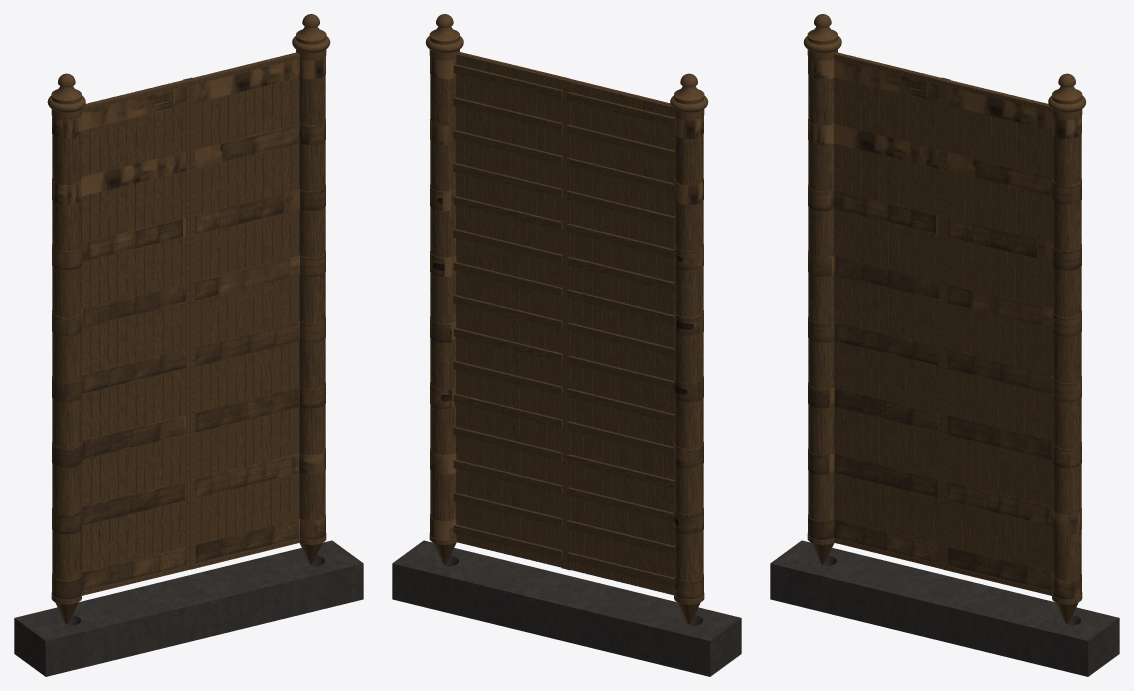
The model's file is gate.glb.
3 renders of one model, left to right at view 1: azimuth 30°, elevation 25°; view 2: azimuth 150°, elevation 25°; view 3: azimuth 330°, elevation 25°, orthographic.
Visible parts, largest first — view 1: material-f4a21aa8-dad0-45bd-9a91-46b177ed8706.001, material-f4a21aa8-dad0-45bd-9a91-46b177ed8706, material-c1a41a98-cb56-4f2b-a119-89c0800d5272.002, material-c1a41a98-cb56-4f2b-a119-89c0800d5272, material-ae09f391-5cc4-4fff-8c5e-e9924fca3eb9.001, material-ac8b5041-5120-4bbe-ac1c-beb6ef9db7ba, material-ac8b5041-5120-4bbe-ac1c-beb6ef9db7ba.001, material-ae09f391-5cc4-4fff-8c5e-e9924fca3eb9, material-a299f4a2-e6d6-4e23-a732-039d4e687a2f.002, material-a299f4a2-e6d6-4e23-a732-039d4e687a2f, material-a299f4a2-e6d6-4e23-a732-039d4e687a2f.022, material-a299f4a2-e6d6-4e23-a732-039d4e687a2f.014 (+53 smaller); view 2: material-f4a21aa8-dad0-45bd-9a91-46b177ed8706.001, material-f4a21aa8-dad0-45bd-9a91-46b177ed8706, material-c1a41a98-cb56-4f2b-a119-89c0800d5272.002, material-c1a41a98-cb56-4f2b-a119-89c0800d5272, material-ae09f391-5cc4-4fff-8c5e-e9924fca3eb9.001, material-ae09f391-5cc4-4fff-8c5e-e9924fca3eb9, material-a299f4a2-e6d6-4e23-a732-039d4e687a2f, material-a299f4a2-e6d6-4e23-a732-039d4e687a2f.002, material-a299f4a2-e6d6-4e23-a732-039d4e687a2f.022, material-a299f4a2-e6d6-4e23-a732-039d4e687a2f.005, material-a299f4a2-e6d6-4e23-a732-039d4e687a2f.014, material-a299f4a2-e6d6-4e23-a732-039d4e687a2f.003 (+66 smaller); view 3: material-f4a21aa8-dad0-45bd-9a91-46b177ed8706, material-f4a21aa8-dad0-45bd-9a91-46b177ed8706.001, material-c1a41a98-cb56-4f2b-a119-89c0800d5272, material-c1a41a98-cb56-4f2b-a119-89c0800d5272.002, material-ae09f391-5cc4-4fff-8c5e-e9924fca3eb9.001, material-ac8b5041-5120-4bbe-ac1c-beb6ef9db7ba, material-ac8b5041-5120-4bbe-ac1c-beb6ef9db7ba.001, material-ae09f391-5cc4-4fff-8c5e-e9924fca3eb9, material-a299f4a2-e6d6-4e23-a732-039d4e687a2f, material-a299f4a2-e6d6-4e23-a732-039d4e687a2f.022, material-a299f4a2-e6d6-4e23-a732-039d4e687a2f.023, material-a299f4a2-e6d6-4e23-a732-039d4e687a2f.007 (+54 smaller).
Boxes of the visible parts, x1,y1,x2,y2 form: material-f4a21aa8-dad0-45bd-9a91-46b177ed8706.001: (14,579,204,676); material-f4a21aa8-dad0-45bd-9a91-46b177ed8706: (173,540,363,637); material-c1a41a98-cb56-4f2b-a119-89c0800d5272.002: (52,134,81,580); material-c1a41a98-cb56-4f2b-a119-89c0800d5272: (299,75,325,521); material-ae09f391-5cc4-4fff-8c5e-e9924fca3eb9.001: (81,79,187,571); material-ac8b5041-5120-4bbe-ac1c-beb6ef9db7ba: (188,51,326,569); material-ac8b5041-5120-4bbe-ac1c-beb6ef9db7ba.001: (51,78,190,604); material-ae09f391-5cc4-4fff-8c5e-e9924fca3eb9: (189,52,299,543); material-a299f4a2-e6d6-4e23-a732-039d4e687a2f.002: (289,52,299,521); material-a299f4a2-e6d6-4e23-a732-039d4e687a2f: (261,59,272,528); material-a299f4a2-e6d6-4e23-a732-039d4e687a2f.022: (152,85,163,554); material-a299f4a2-e6d6-4e23-a732-039d4e687a2f.014: (125,92,135,561); material-f4a21aa8-dad0-45bd-9a91-46b177ed8706.001: (551,579,741,676); material-f4a21aa8-dad0-45bd-9a91-46b177ed8706: (392,540,582,637); material-c1a41a98-cb56-4f2b-a119-89c0800d5272.002: (674,134,703,580); material-c1a41a98-cb56-4f2b-a119-89c0800d5272: (430,75,455,521); material-ae09f391-5cc4-4fff-8c5e-e9924fca3eb9.001: (567,80,674,592); material-ae09f391-5cc4-4fff-8c5e-e9924fca3eb9: (456,53,566,565); material-a299f4a2-e6d6-4e23-a732-039d4e687a2f: (483,60,494,551); material-a299f4a2-e6d6-4e23-a732-039d4e687a2f.002: (456,53,466,544); material-a299f4a2-e6d6-4e23-a732-039d4e687a2f.022: (591,86,603,577); material-a299f4a2-e6d6-4e23-a732-039d4e687a2f.005: (518,68,529,559); material-a299f4a2-e6d6-4e23-a732-039d4e687a2f.014: (619,93,629,584); material-a299f4a2-e6d6-4e23-a732-039d4e687a2f.003: (474,58,484,548); material-f4a21aa8-dad0-45bd-9a91-46b177ed8706: (929,579,1119,676); material-f4a21aa8-dad0-45bd-9a91-46b177ed8706.001: (770,540,960,637); material-c1a41a98-cb56-4f2b-a119-89c0800d5272: (1052,134,1081,580); material-c1a41a98-cb56-4f2b-a119-89c0800d5272.002: (808,75,834,521); material-ae09f391-5cc4-4fff-8c5e-e9924fca3eb9.001: (834,52,944,542); material-ac8b5041-5120-4bbe-ac1c-beb6ef9db7ba: (943,78,1082,604); material-ac8b5041-5120-4bbe-ac1c-beb6ef9db7ba.001: (807,51,945,569); material-ae09f391-5cc4-4fff-8c5e-e9924fca3eb9: (946,79,1048,569); material-a299f4a2-e6d6-4e23-a732-039d4e687a2f: (1015,97,1027,565); material-a299f4a2-e6d6-4e23-a732-039d4e687a2f.022: (906,70,919,538); material-a299f4a2-e6d6-4e23-a732-039d4e687a2f.023: (915,73,928,541); material-a299f4a2-e6d6-4e23-a732-039d4e687a2f.007: (954,82,966,550).
Size of the model in its own units: 3.14 by 5.49 by 0.5404.
39 materials, 39 textured.
